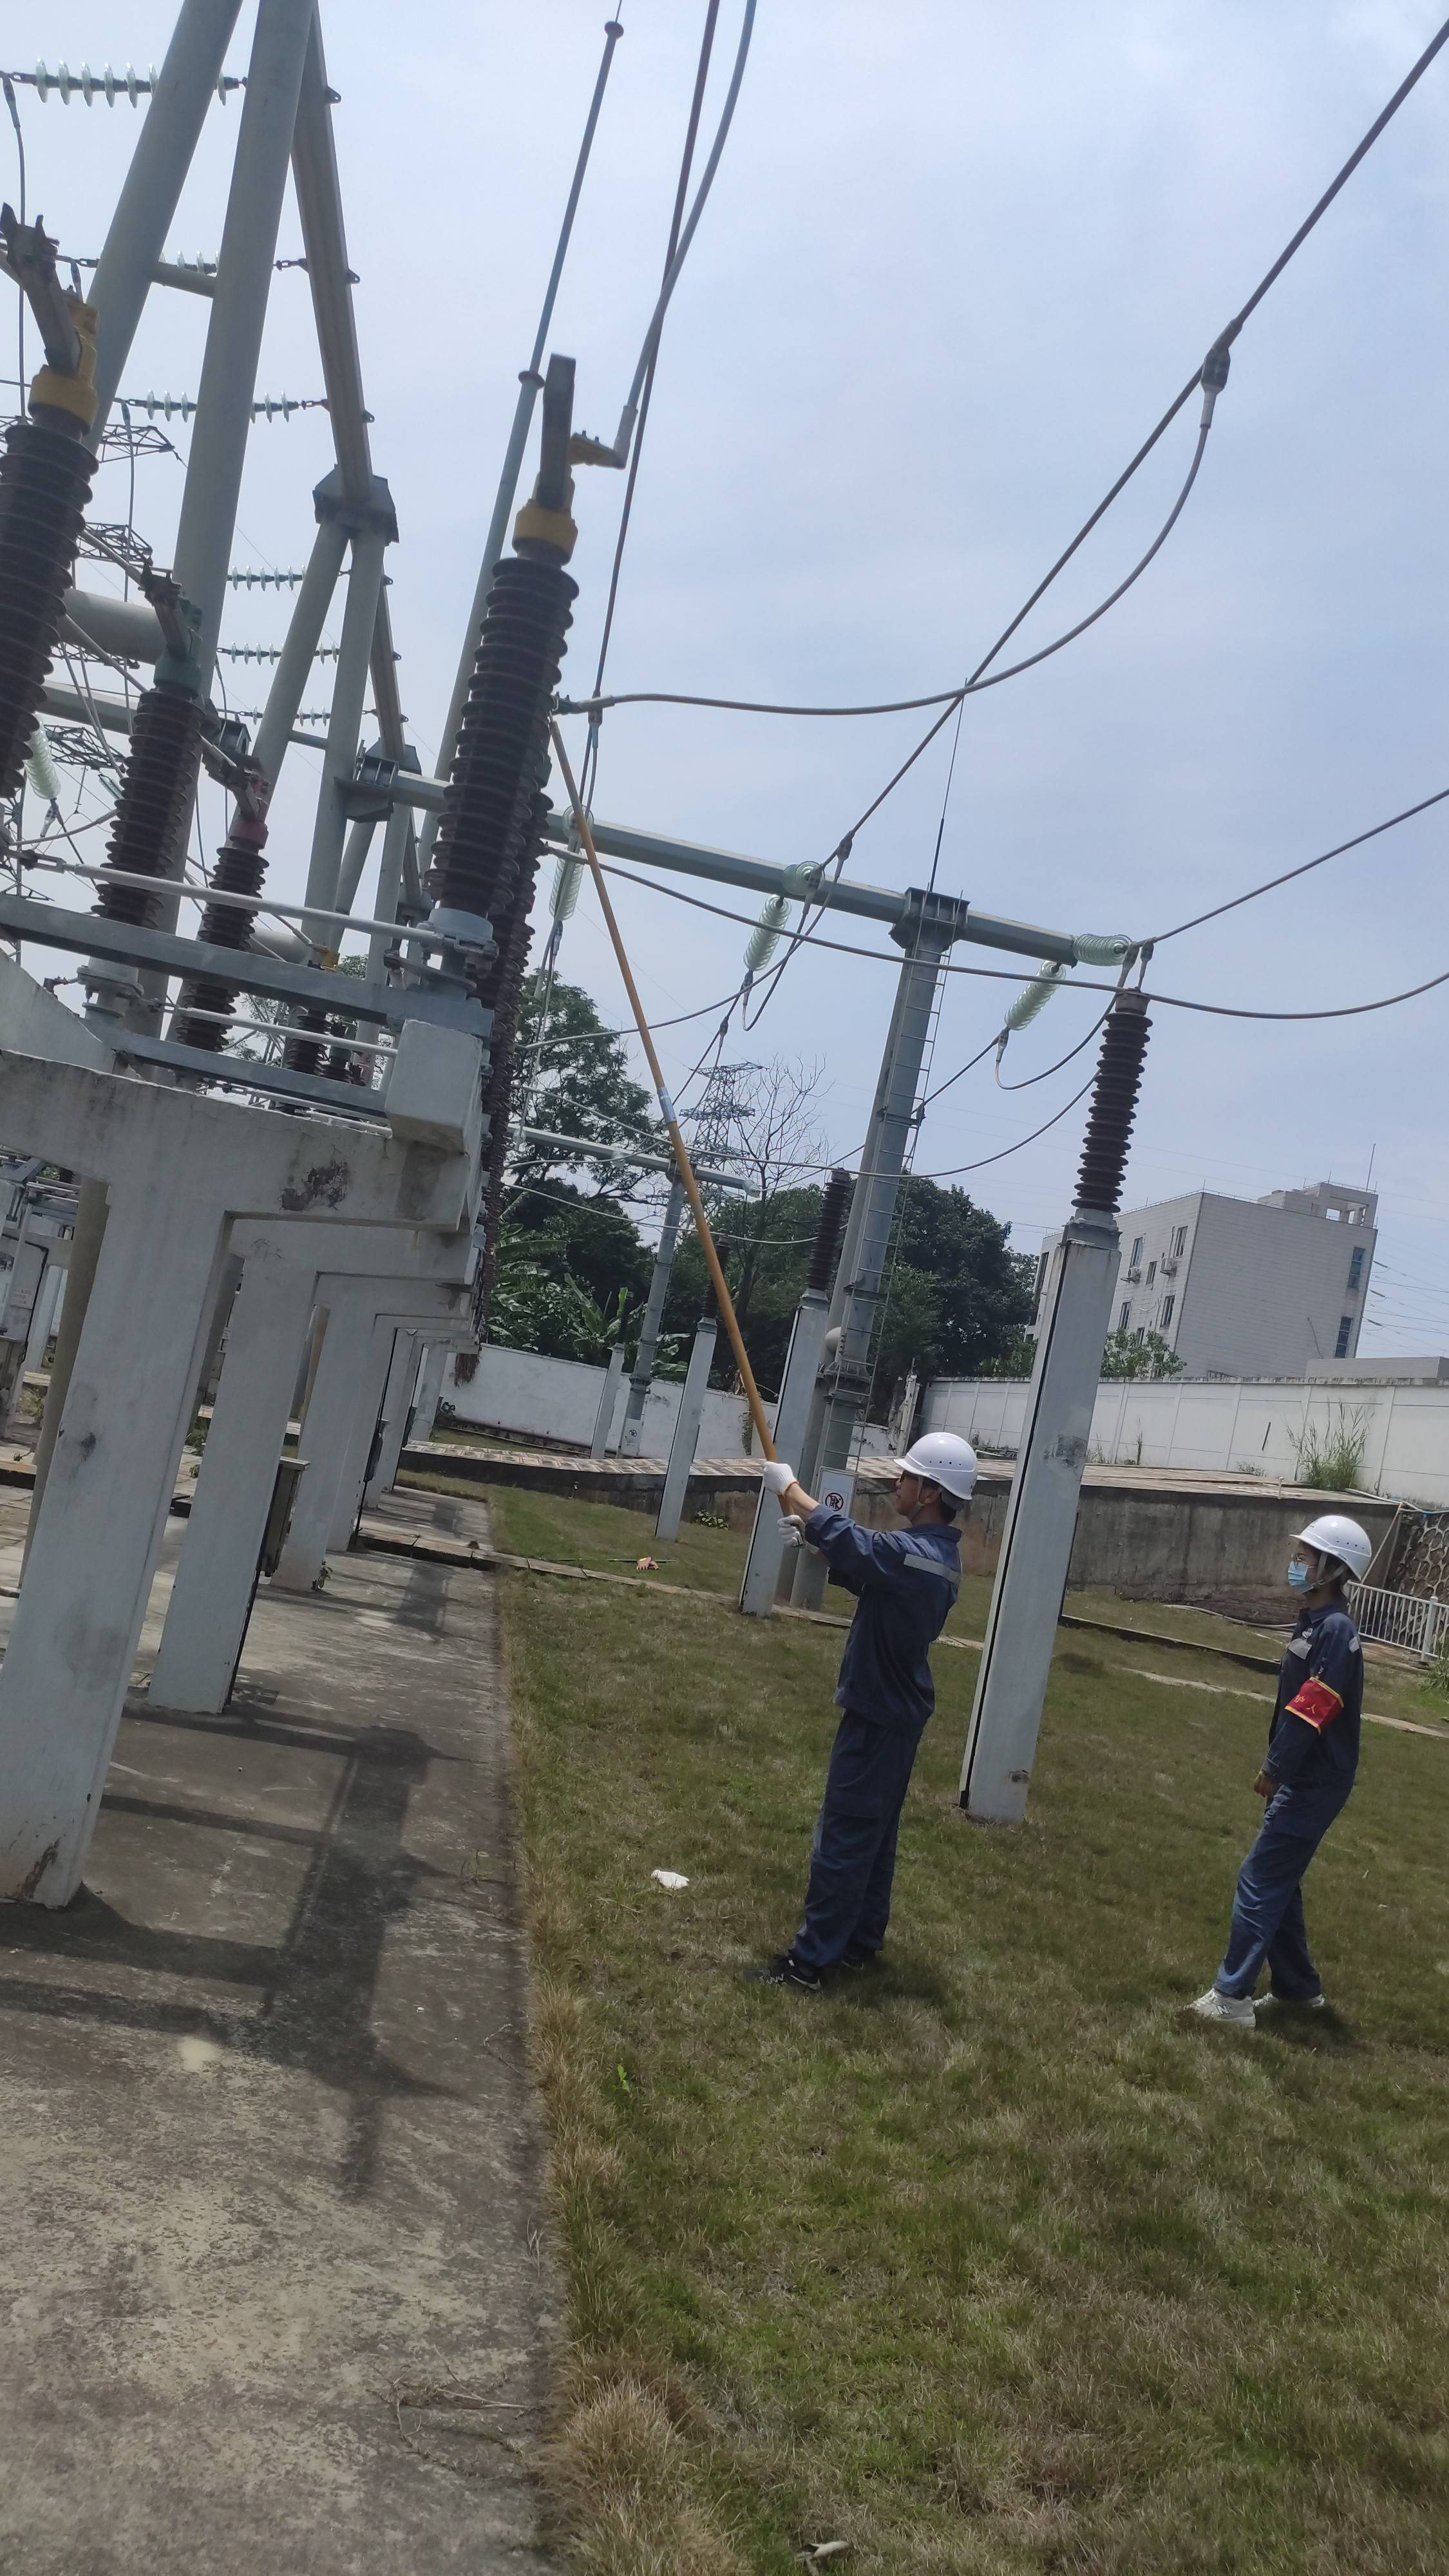downsuit: (809, 1718, 934, 1951), (1223, 1805, 1345, 2003)
upsuit: (809, 1504, 964, 1707), (1261, 1608, 1371, 1794)
wrongtop: (782, 1479, 835, 1541)
